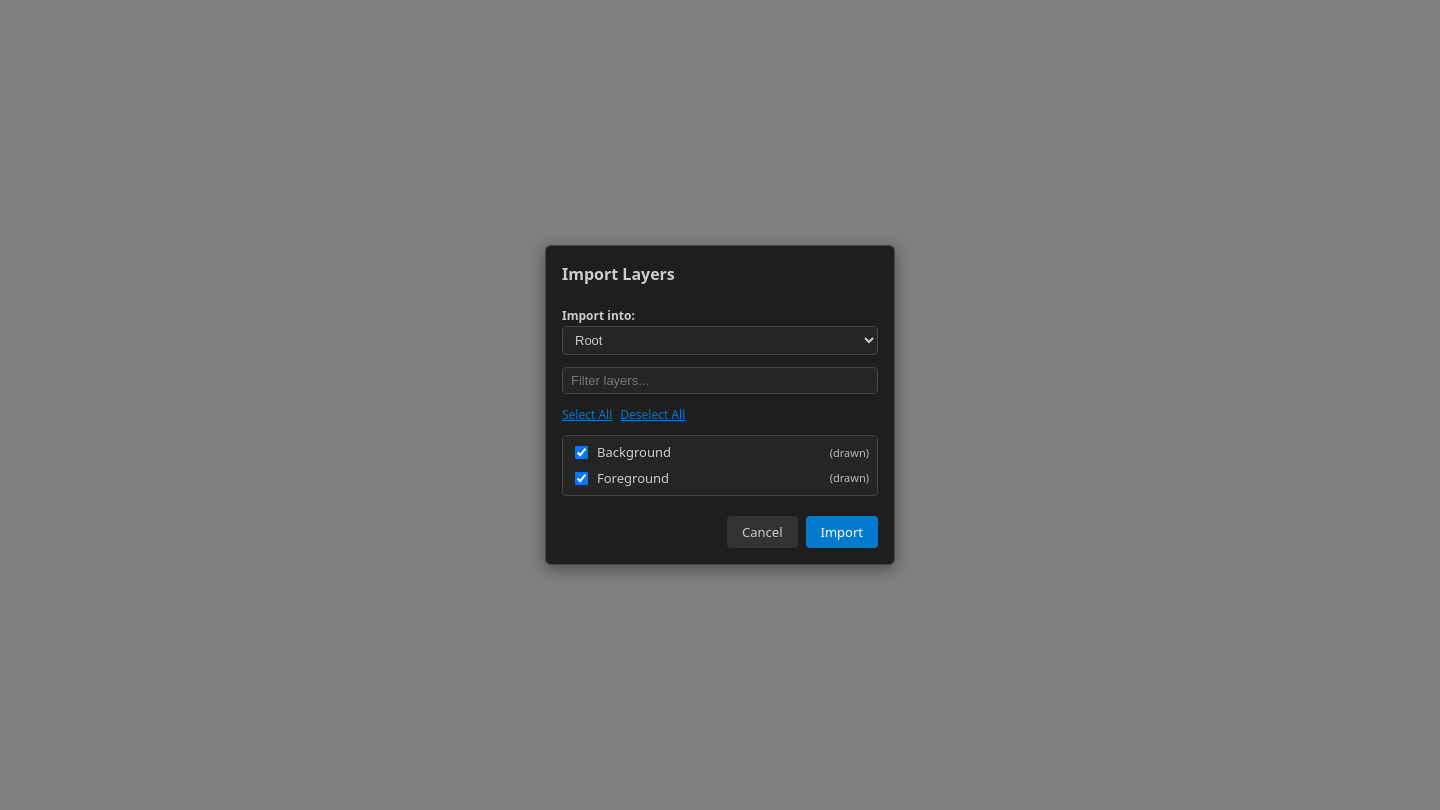
Test: ImportLayersDialog › Deselect All unchecks all layers
What coordinates should you click on to do the following:
click the button "Deselect All"
I would click on:
 (653, 414)
Its box is [620,406,685,423].
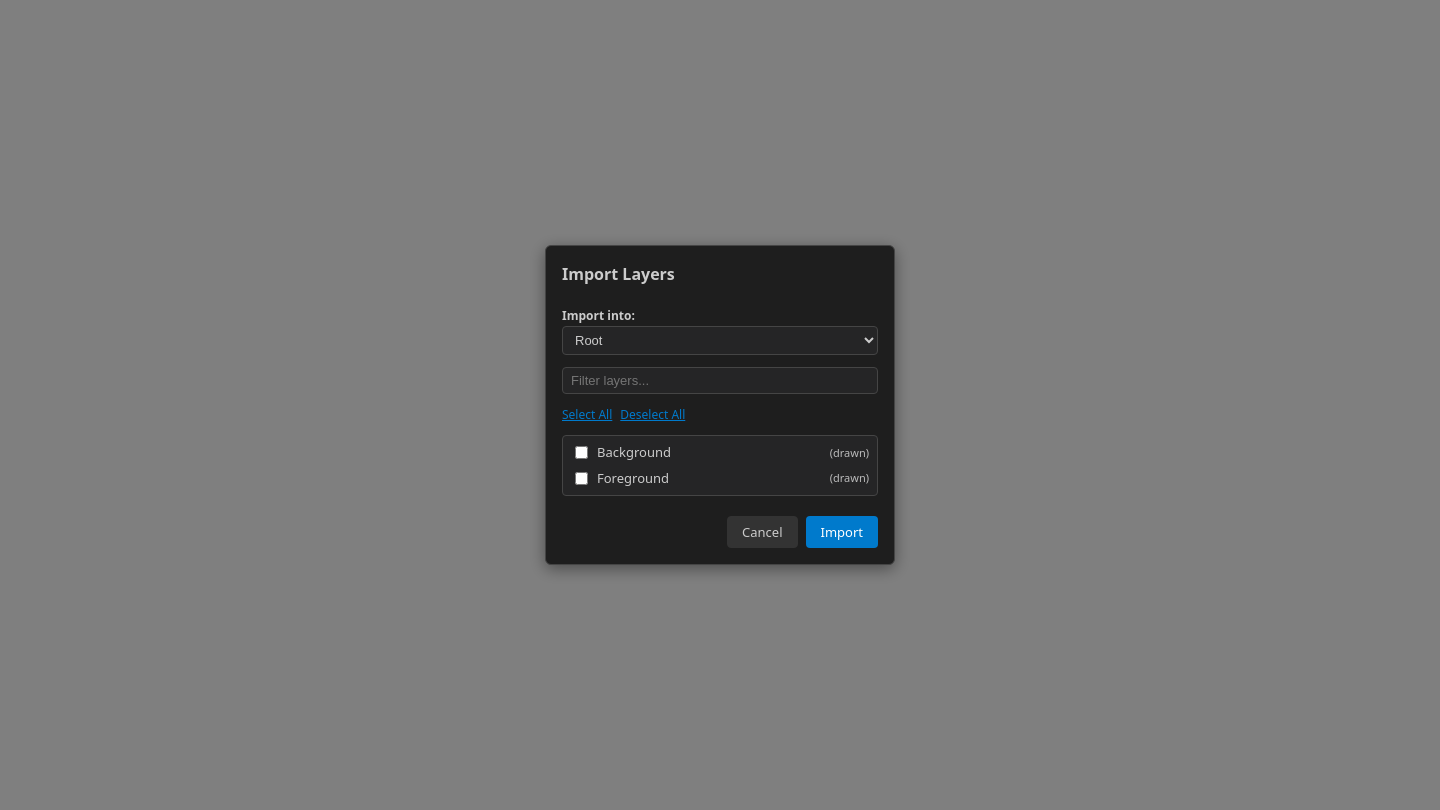
Now the checkbox with test id "import-check-bg-1" is not checked, box [575,446,588,459]
Now the checkbox with test id "import-check-fg-1" is not checked, box [575,472,588,485]
